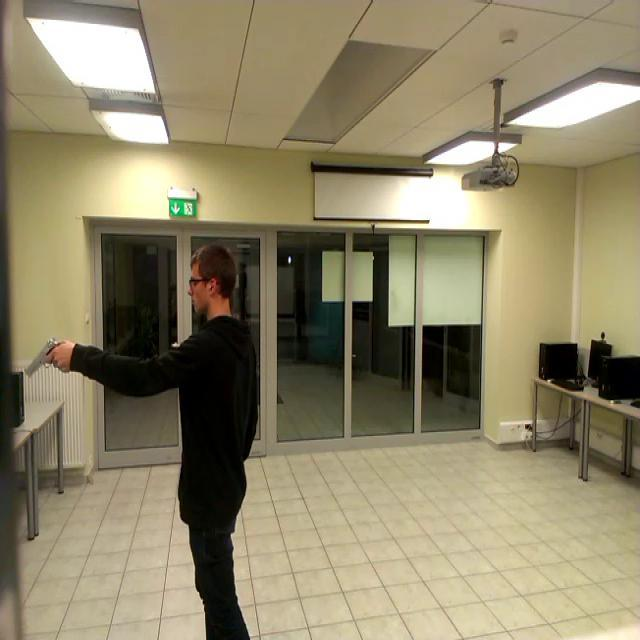Gun: (26, 336, 66, 376)
